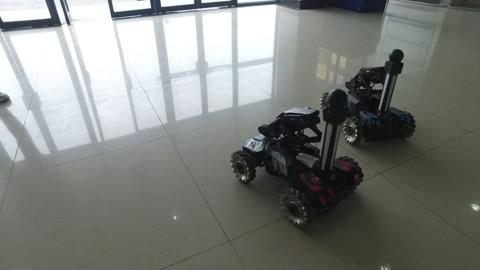chariot: (225, 85, 366, 232), (315, 47, 419, 147)
